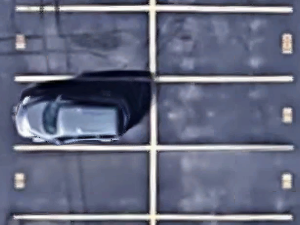Occupied: (13, 79, 153, 148)
Vacant: (153, 7, 293, 79), (14, 8, 153, 79), (154, 78, 293, 148), (153, 148, 292, 218), (14, 149, 153, 217)
